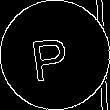P_N: (33, 28, 77, 82)
